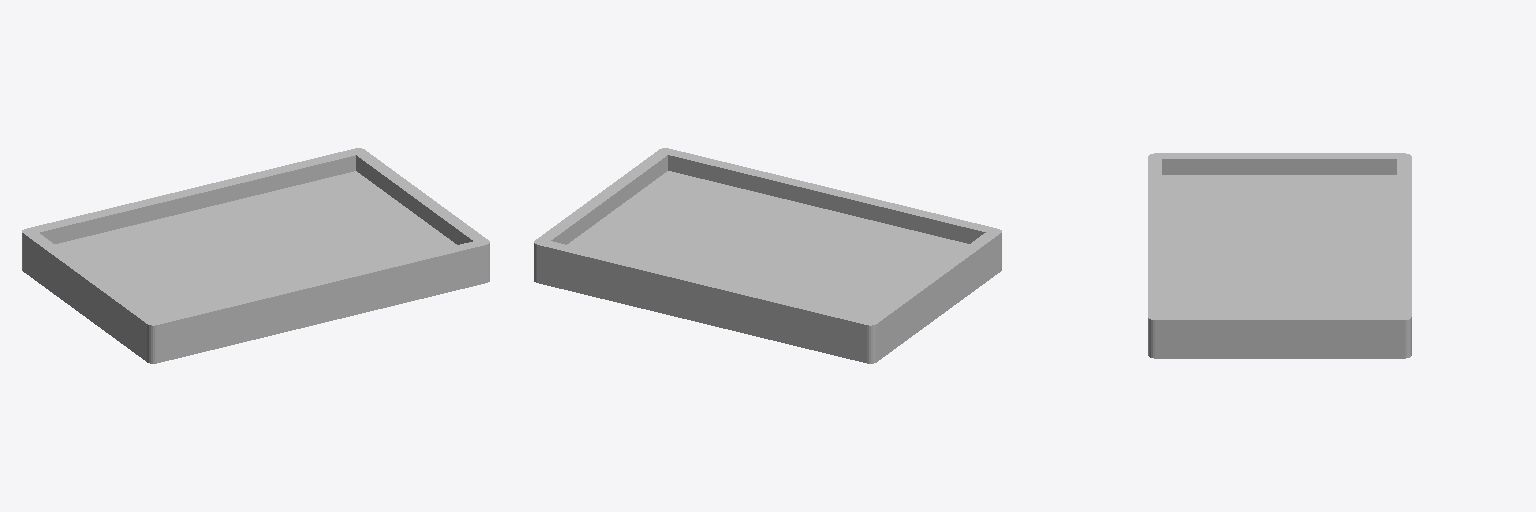
File: containedEnd_A_2x3.obj
The picture shows the model from 3 angles: view 1: azimuth 30°, elevation 25°; view 2: azimuth 150°, elevation 25°; view 3: azimuth 270°, elevation 25°; orthographic projection.
Visible parts, largest first — view 1: modelPanel2ViewSelectedSet containedEnd_A_2x3; view 2: modelPanel2ViewSelectedSet containedEnd_A_2x3; view 3: modelPanel2ViewSelectedSet containedEnd_A_2x3.
Part boxes in pixels (bbox=[...]): modelPanel2ViewSelectedSet containedEnd_A_2x3: bbox=[22, 148, 489, 363]; modelPanel2ViewSelectedSet containedEnd_A_2x3: bbox=[534, 148, 1001, 363]; modelPanel2ViewSelectedSet containedEnd_A_2x3: bbox=[1148, 153, 1411, 358].
Size of the model in its own units: 3 by 0.3215 by 2.